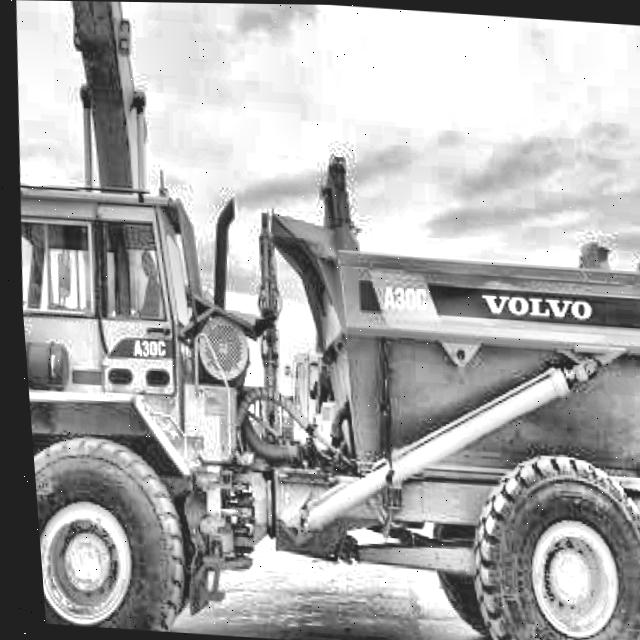dump_truck: (10, 164, 640, 640)
